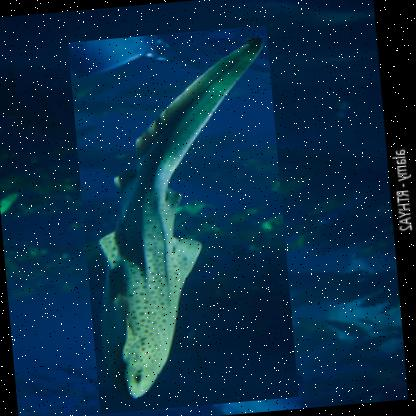zebra_shark: (67, 25, 299, 415)
